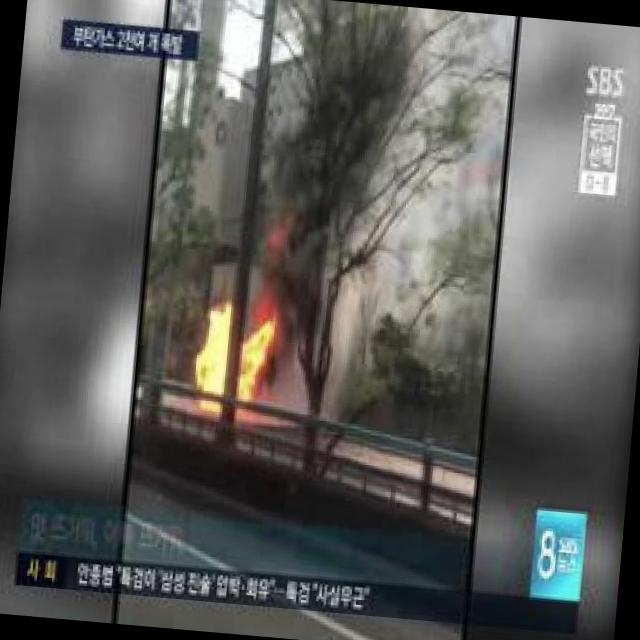Fire: (182, 316, 284, 422)
Smoke: (291, 11, 514, 423)
